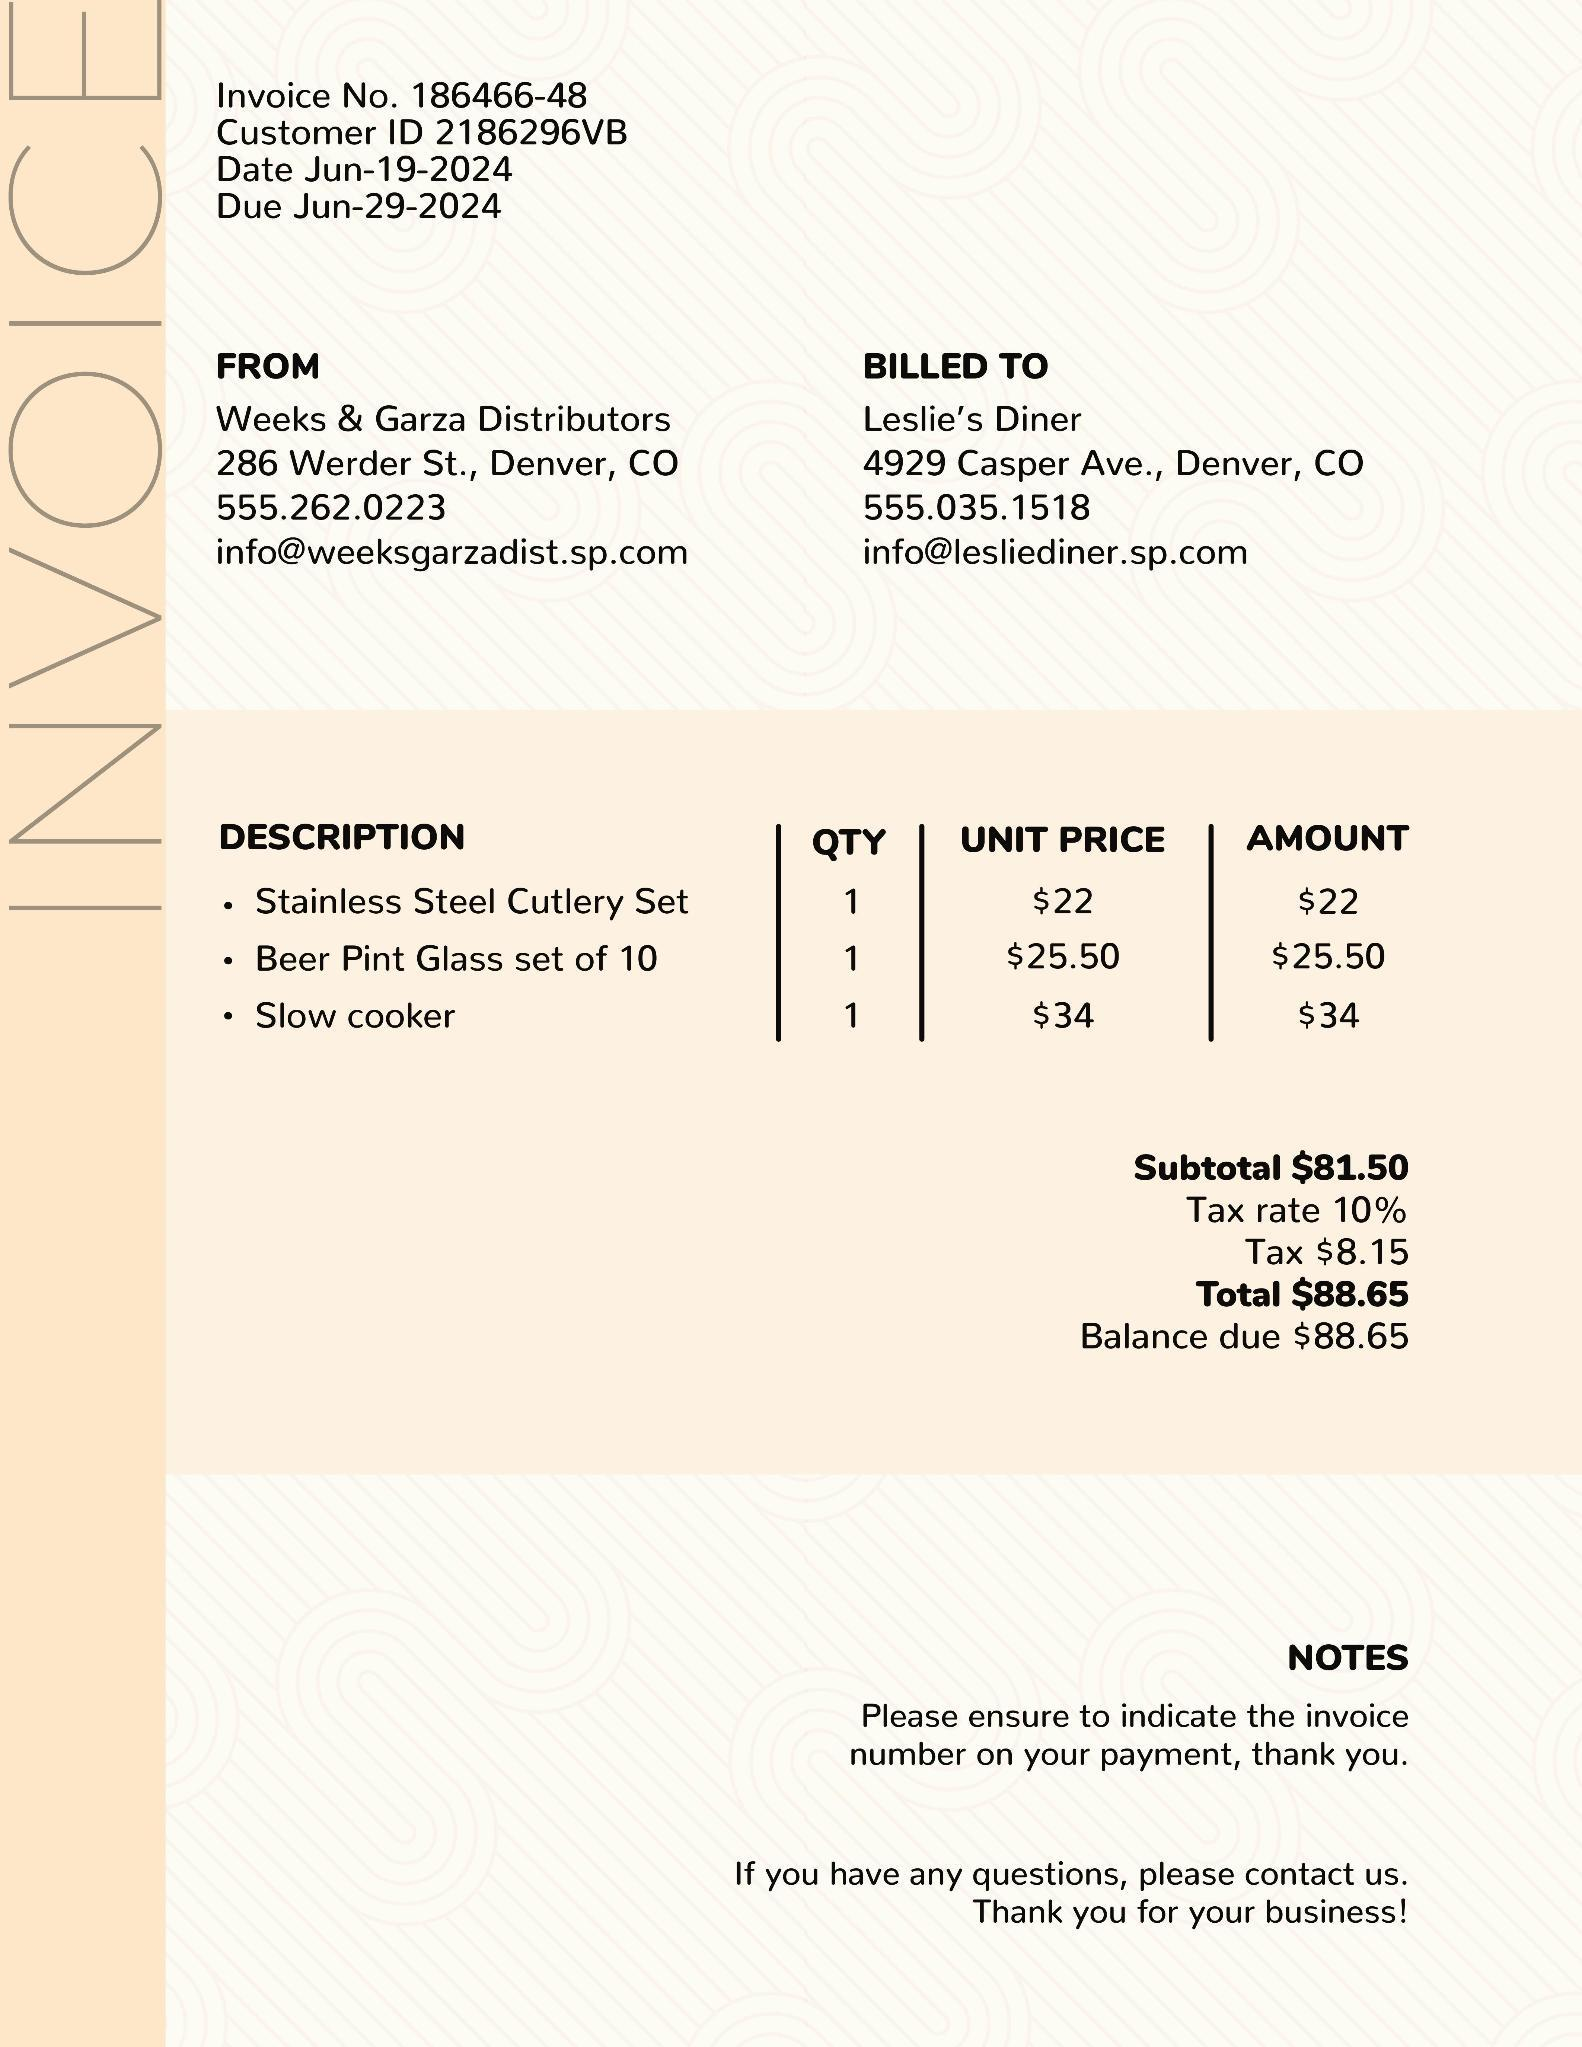ROI: (203, 784, 1476, 1072), (2, 2, 179, 954), (818, 326, 1391, 610), (705, 1610, 1451, 1784), (199, 336, 726, 582), (1037, 1122, 1471, 1392), (706, 1819, 1457, 1956), (203, 65, 646, 238)
